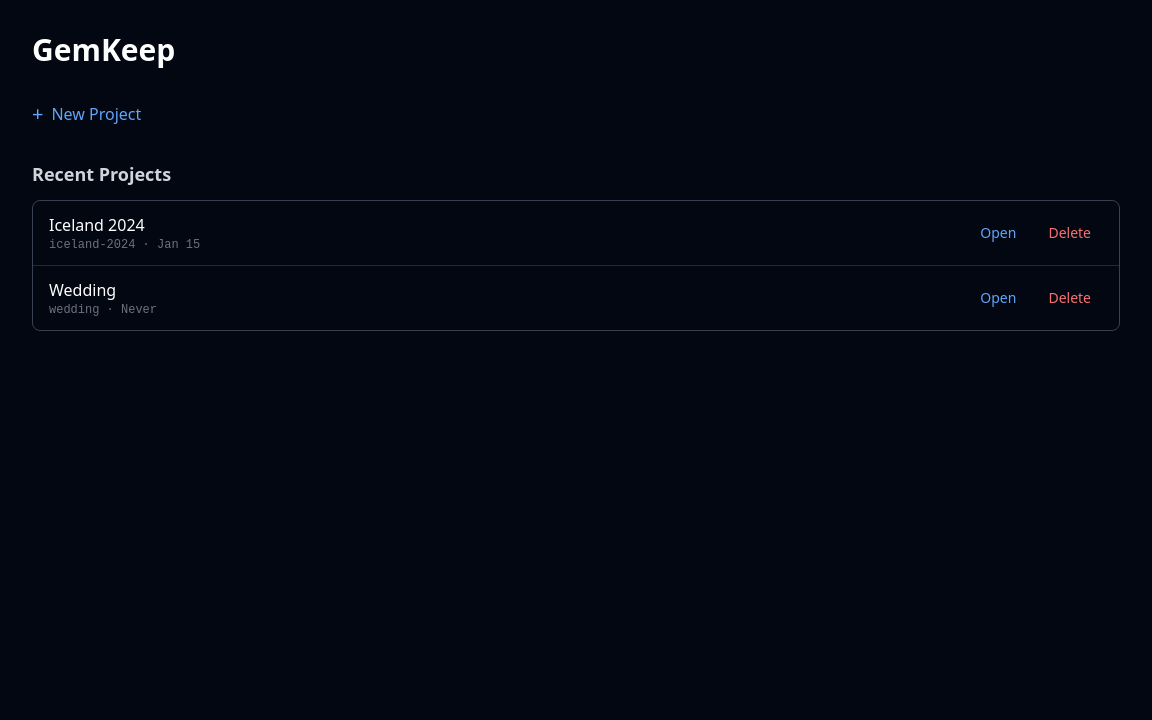
Test: ProjectList — + New Project toggle (PL-09, PL-35) › toggle icon changes between + and − (PL-35)
The width and height of the screenshot is (1152, 720).
Expected: the heading "GemKeep" is shown, [32,29,175,70]
Expected: the text "+" is shown, [32,100,44,128]
// After opening shows −
Step 1. Click the button "+ New Project" → (87, 114), box [32,100,141,128]
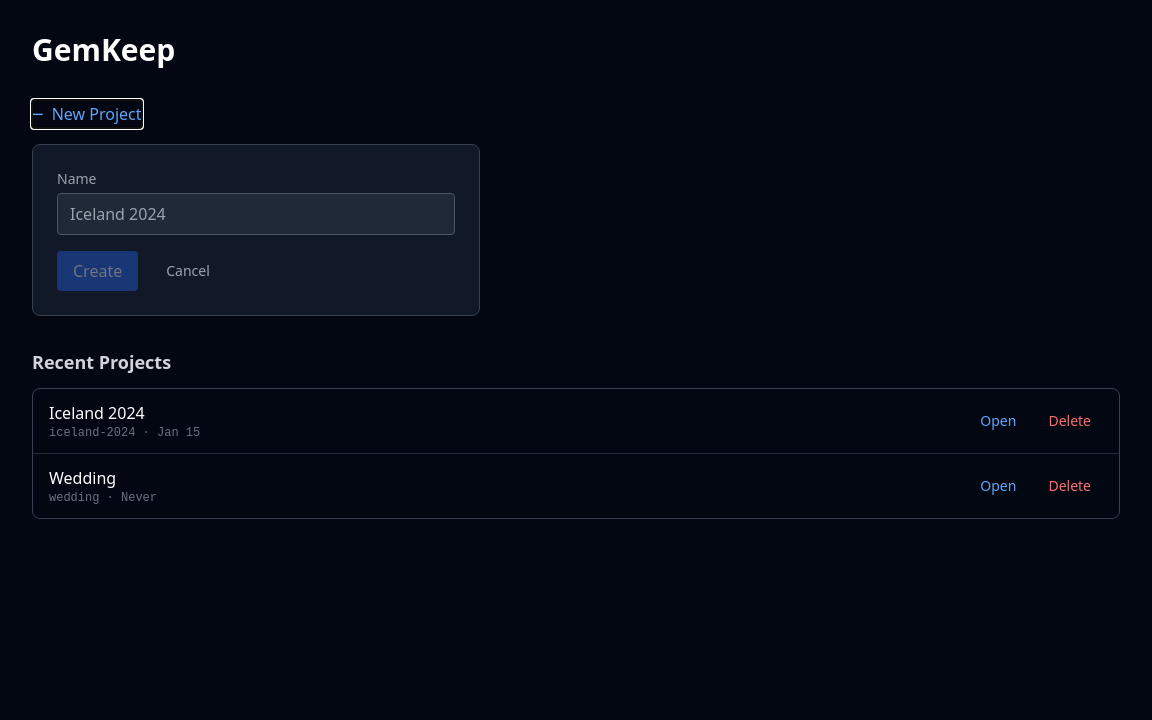
Expected: the text "−" is shown, [32,100,44,128]
